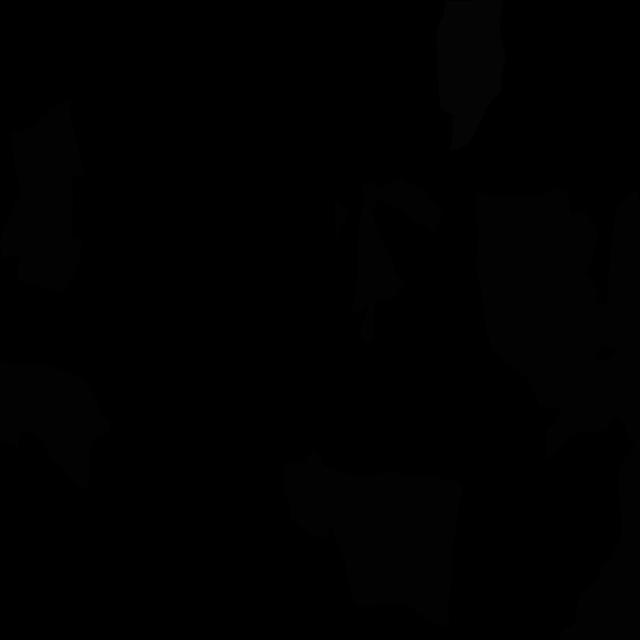cardboard: (475, 186, 622, 409), (558, 419, 640, 640), (0, 99, 84, 292), (314, 466, 428, 607), (352, 177, 444, 344), (0, 359, 110, 490), (598, 189, 640, 432), (404, 474, 464, 628), (546, 357, 612, 461), (283, 449, 331, 538), (335, 197, 348, 240)
soft_plastic: (436, 0, 506, 150)
